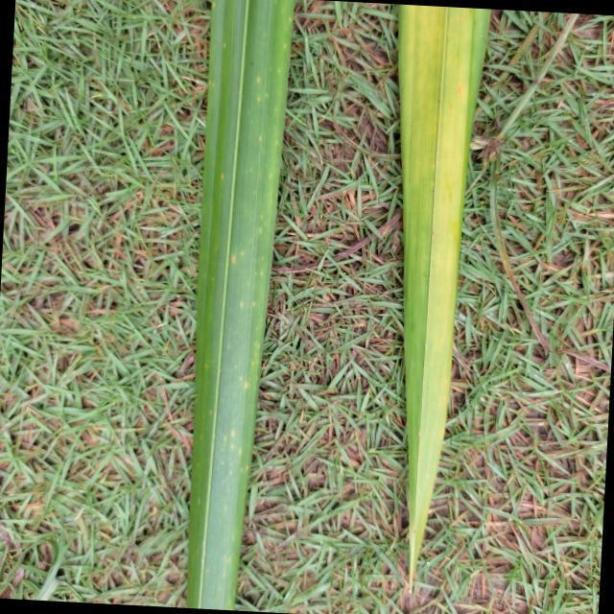nitrogen: (184, 0, 299, 614), (399, 0, 488, 591)
